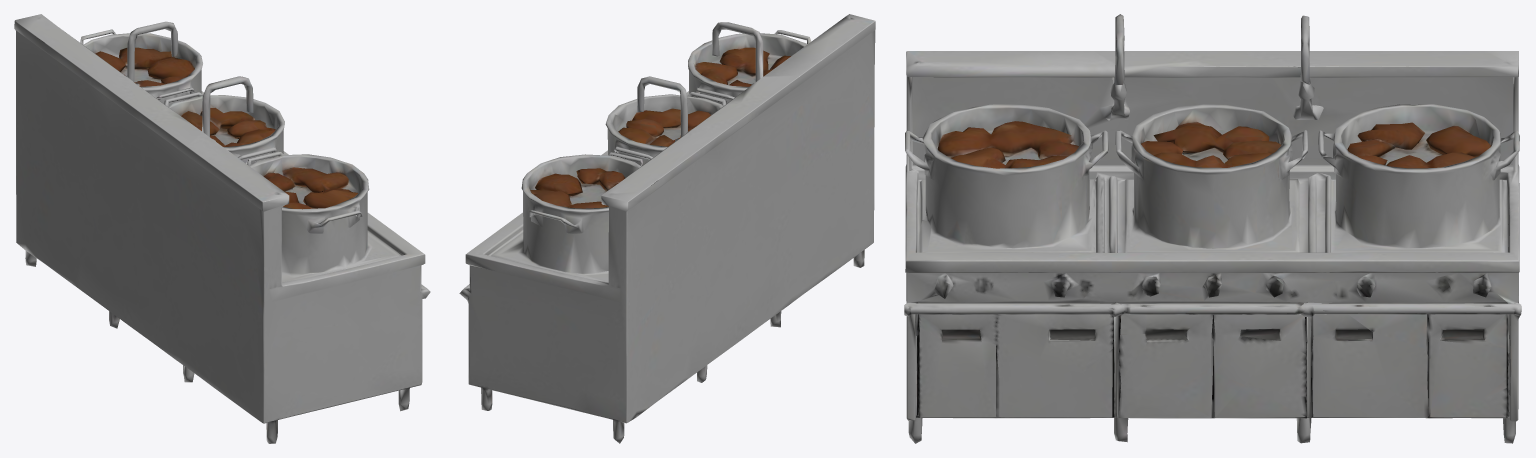
The model's file is chashu.glb.
3 renders of one model, left to right at view 1: azimuth 30°, elevation 25°; view 2: azimuth 150°, elevation 25°; view 3: azimuth 270°, elevation 25°, orthographic. The views are drawn at different scales.
Visible parts, largest first — view 1: tripo_node_d1a3bf1d-d3ba-4103-8406-1560db6f4c89; view 2: tripo_node_d1a3bf1d-d3ba-4103-8406-1560db6f4c89; view 3: tripo_node_d1a3bf1d-d3ba-4103-8406-1560db6f4c89.
Boxes of the visible parts, <box> form: tripo_node_d1a3bf1d-d3ba-4103-8406-1560db6f4c89: <box>14,14,430,443</box>; tripo_node_d1a3bf1d-d3ba-4103-8406-1560db6f4c89: <box>459,14,875,443</box>; tripo_node_d1a3bf1d-d3ba-4103-8406-1560db6f4c89: <box>904,14,1521,443</box>.
Bounding box in the file's own units: 0.3872 × 0.6446 × 0.9997.
1 material, 1 textured.
